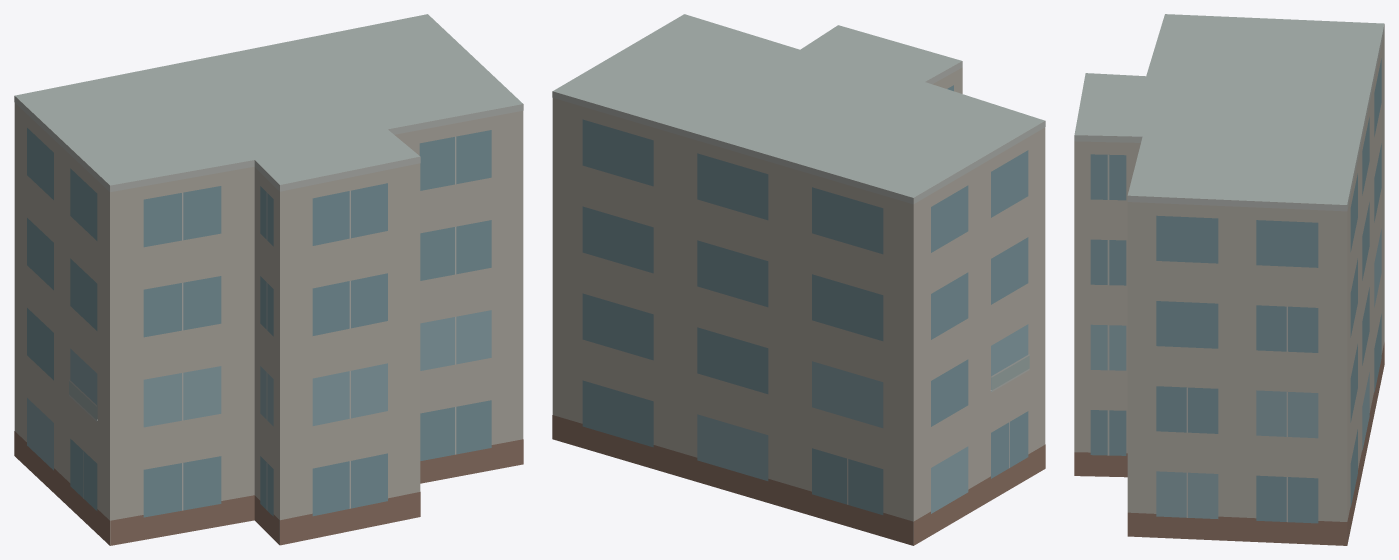
File: survey-upis-32789435.glb
The picture shows the model from 3 angles, left to right: view 1: azimuth 30°, elevation 25°; view 2: azimuth 150°, elevation 25°; view 3: azimuth 270°, elevation 25°; orthographic projection. The views are drawn at different scales.
Visible parts, largest first — view 1: survey-upis-32789435.tmp; view 2: survey-upis-32789435.tmp; view 3: survey-upis-32789435.tmp.
Part boxes in pixels (box(x1,y1,x2,y2)): survey-upis-32789435.tmp: box(14, 14, 523, 545); survey-upis-32789435.tmp: box(552, 14, 1045, 545); survey-upis-32789435.tmp: box(1074, 14, 1384, 545).
Bounding box in the file's own units: 15.88 × 13.2 × 10.9.
